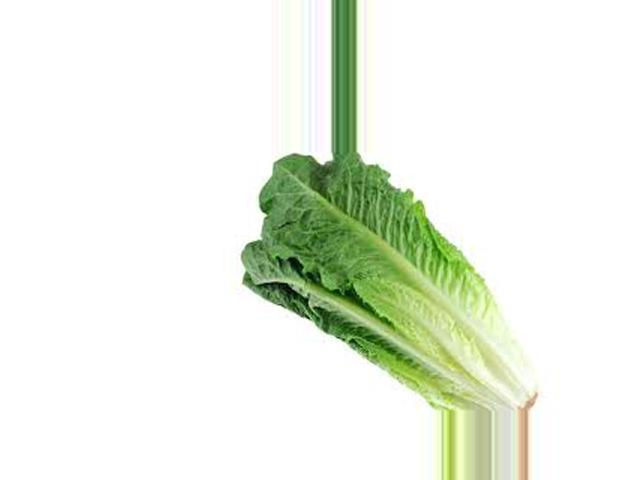lettuce: (235, 154, 540, 410)
